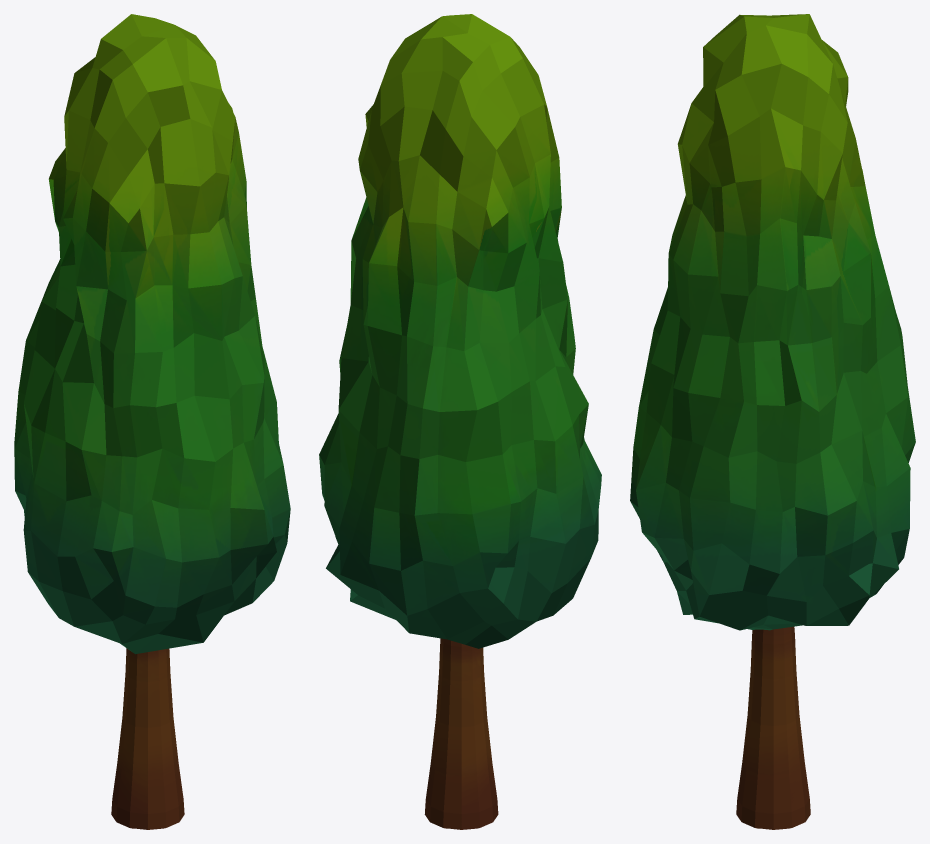
The model's file is SM_VEG_Tree02.fbx.
3 views of the same model, side by side, from view 1: azimuth 30°, elevation 25°; view 2: azimuth 150°, elevation 25°; view 3: azimuth 270°, elevation 25° (orthographic).
Parts seen in each view (by area): view 1: TREE_CANOPY; view 2: TREE_CANOPY; view 3: TREE_CANOPY.
Boxes of the visible parts, bbox=[...] form: TREE_CANOPY: bbox=[14, 14, 290, 829]; TREE_CANOPY: bbox=[319, 14, 601, 829]; TREE_CANOPY: bbox=[630, 14, 915, 829].
Size of the model in its own units: 311 by 998 by 322.
Materials: 1 (1 with a texture image).
